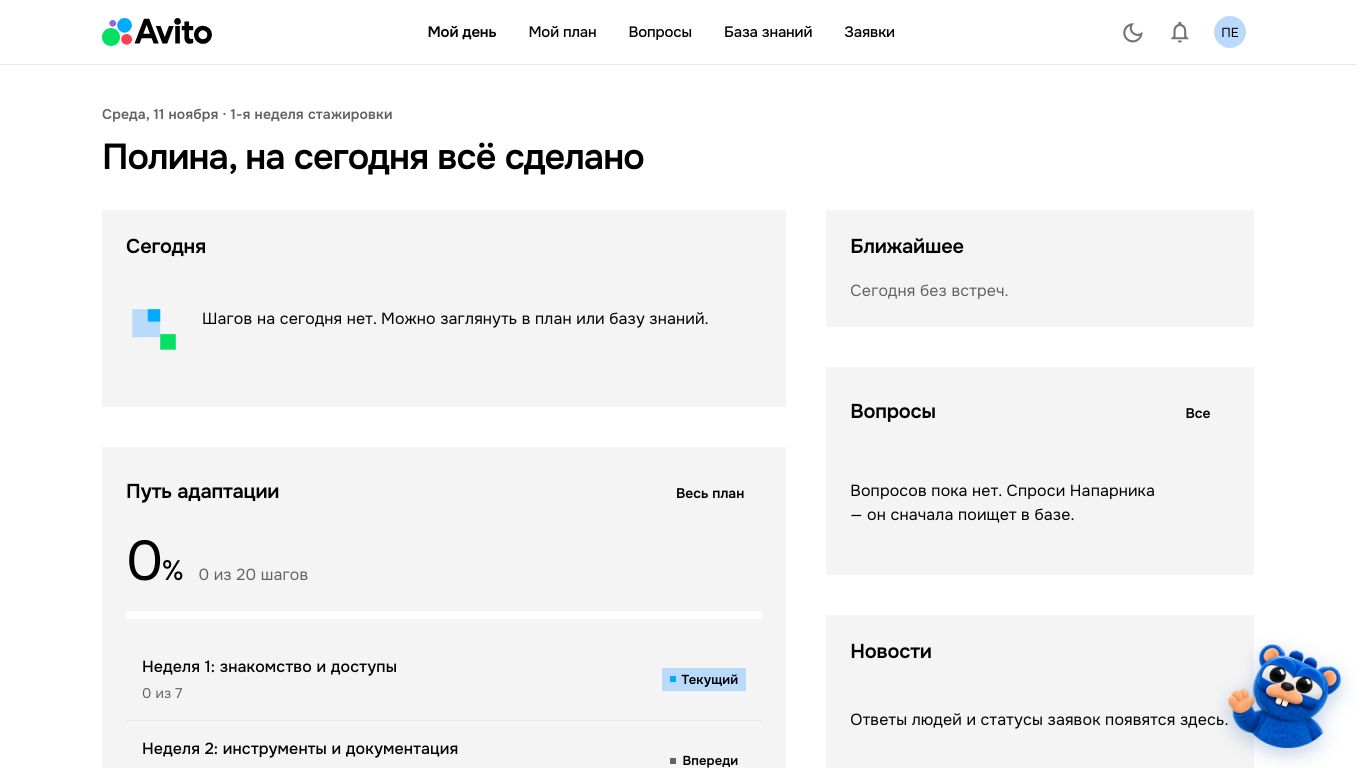
ветви интерфейса стажёра › новый стажёр без вопросов и заявок видит пустые состояния
Expected: the text "Вопросов пока нет. Спроси Напарника — он сначала поищет в базе." is shown, [850,480,1155,525]
Expected: the text "Ответы людей и статусы заявок появятся здесь." is shown, [850,708,1230,732]
Click the button "Заявки". click: point(870, 32)
box: [830,0,909,64]
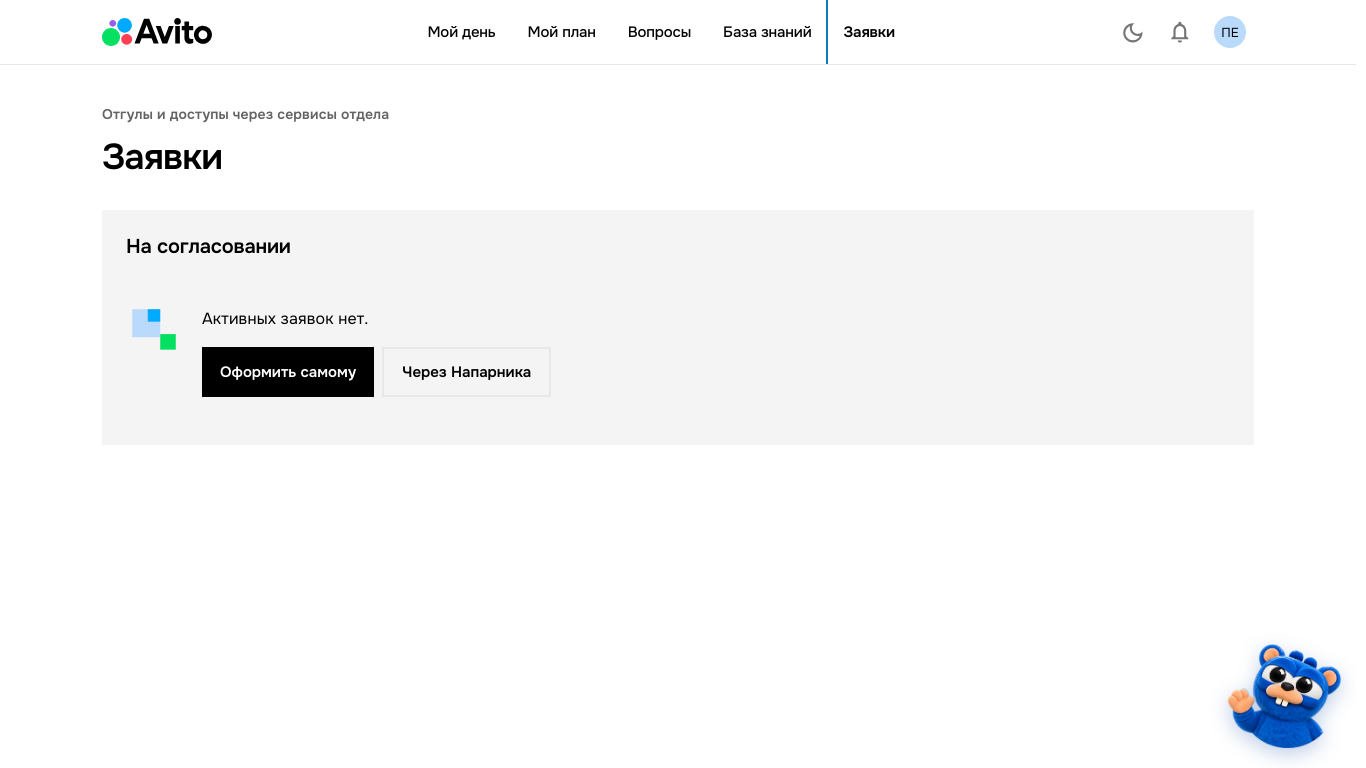
Expected: the text "Активных заявок нет." is shown, [202,308,369,329]
Click the button "Через Напарника". click: point(467, 372)
box: [382,347,551,397]
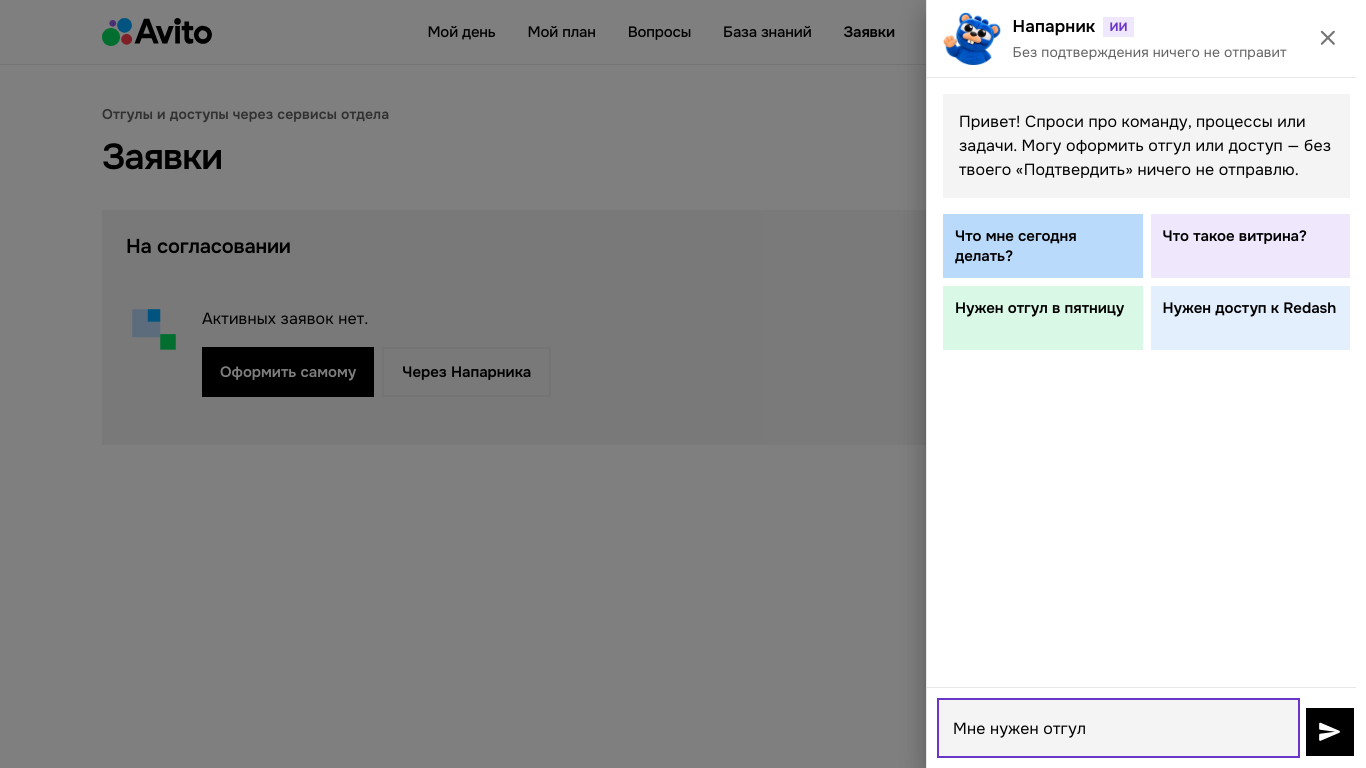
Expected: the text box showing "Мне нужен отгул" is shown, [953,716,1284,740]
